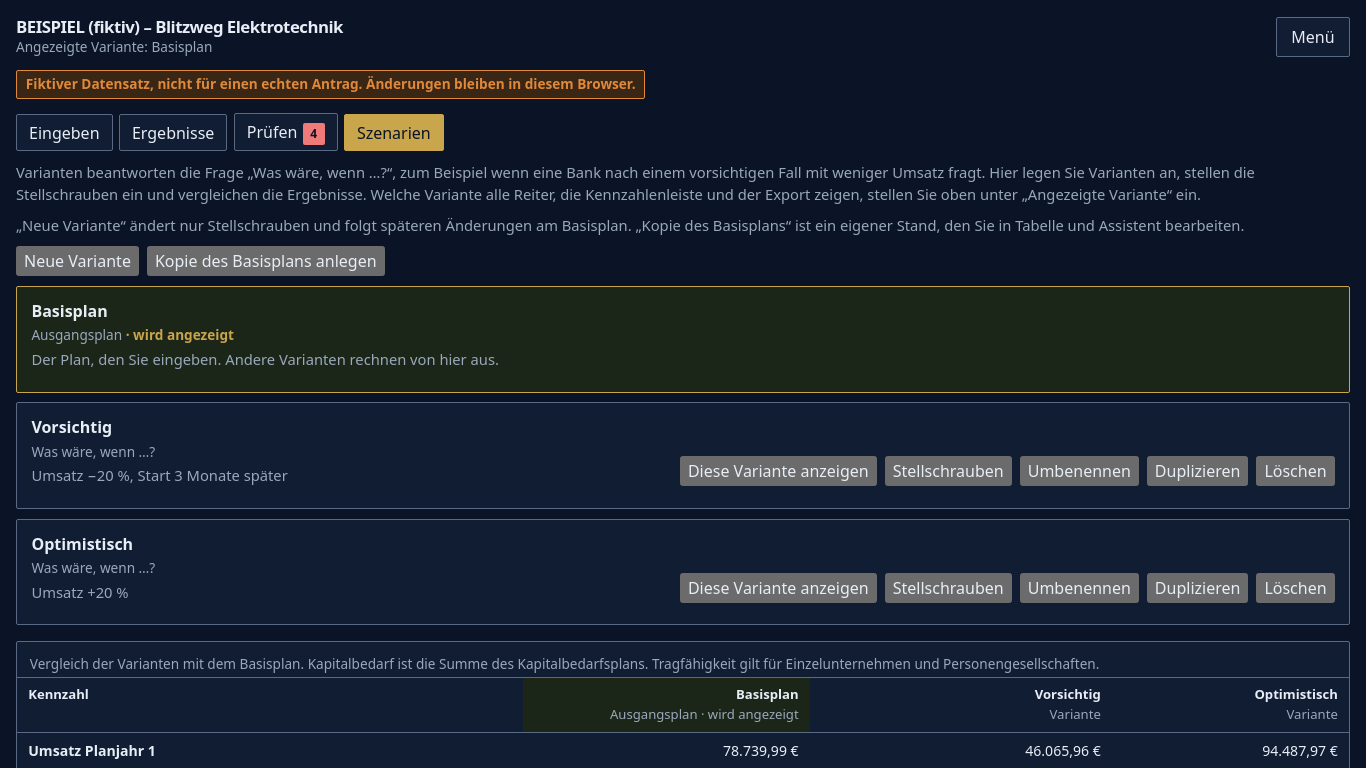
Test case: Reiter Szenarien › erklärt die Stellschrauben im Dialog Neue Variante
Click the button "Neue Variante": {"x": 77, "y": 261} [16,246,139,276]
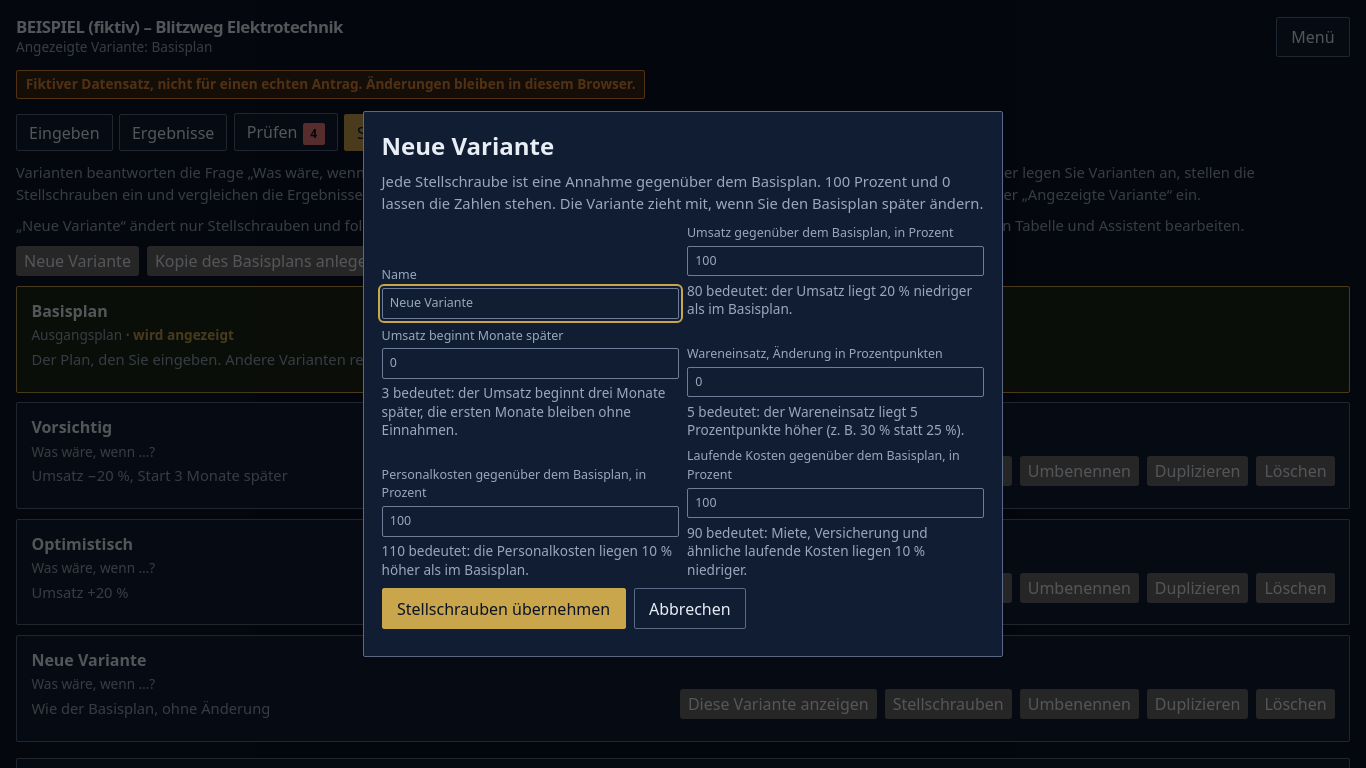
Check: the text "20 % niedriger" is shown, box [687,281,972,318]
Check: the text "drei Monate später" is shown, box [382,383,666,439]
Check: the text "30 % statt 25 %" is shown, box [687,402,964,439]
